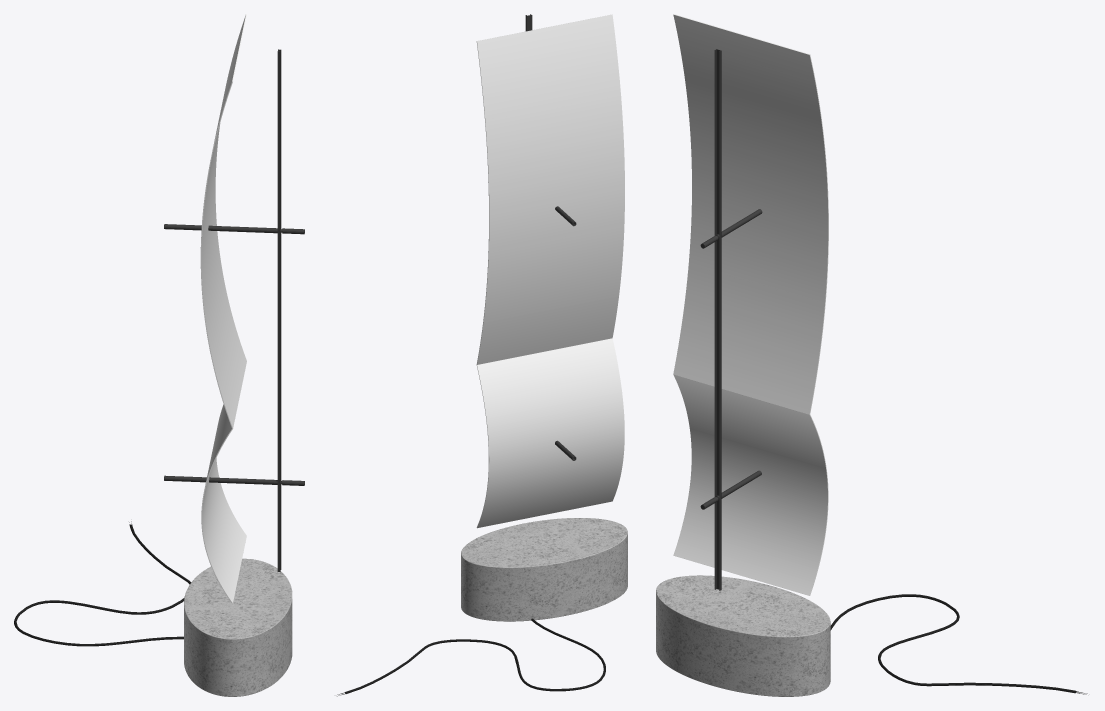
Rendered from LuminariaDeMesaPampa.glb.
3 views of the same model, side by side, from view 1: azimuth 30°, elevation 25°; view 2: azimuth 150°, elevation 25°; view 3: azimuth 270°, elevation 25° (orthographic). The views are drawn at different scales.
Parts seen in each view (by area): view 1: Geom3D (×2), Geom3D_PP001LED_PP001LED, Geom3D_brep_070_brep_070; view 2: Geom3D (×2), Geom3D_brep_070_brep_070; view 3: Geom3D (×2), Geom3D_PP001LED_PP001LED, Geom3D_brep_070_brep_070.
Boxes of the visible parts, bbox=[...] form: Geom3D (×2): bbox=[184, 14, 292, 696]; Geom3D_PP001LED_PP001LED: bbox=[277, 49, 281, 572]; Geom3D_brep_070_brep_070: bbox=[14, 521, 191, 646]; Geom3D (×2): bbox=[461, 14, 627, 621]; Geom3D_brep_070_brep_070: bbox=[337, 618, 605, 696]; Geom3D (×2): bbox=[656, 14, 830, 696]; Geom3D_PP001LED_PP001LED: bbox=[714, 49, 721, 590]; Geom3D_brep_070_brep_070: bbox=[830, 594, 1087, 694].
Size of the model in its own units: 0.3591 by 1.05 by 0.653.
4 materials, 4 textured.
